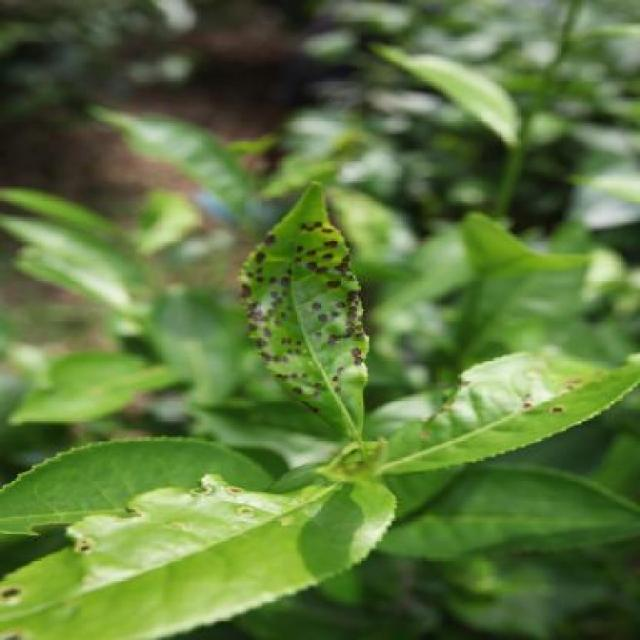Tea Mosquito bug infested leaf: (237, 203, 406, 431)
